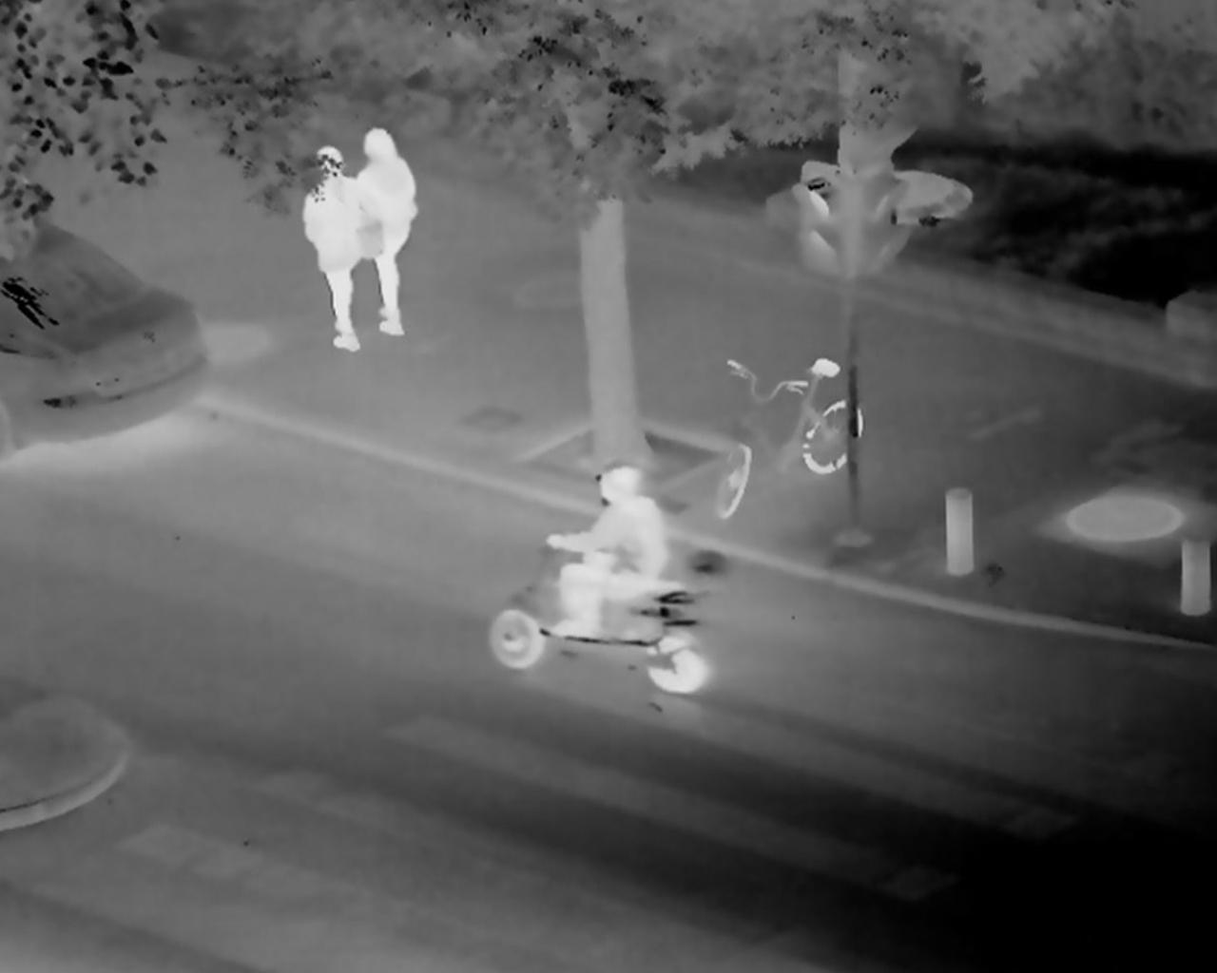person: (548, 465, 667, 660), (301, 145, 365, 354), (357, 127, 416, 342)
